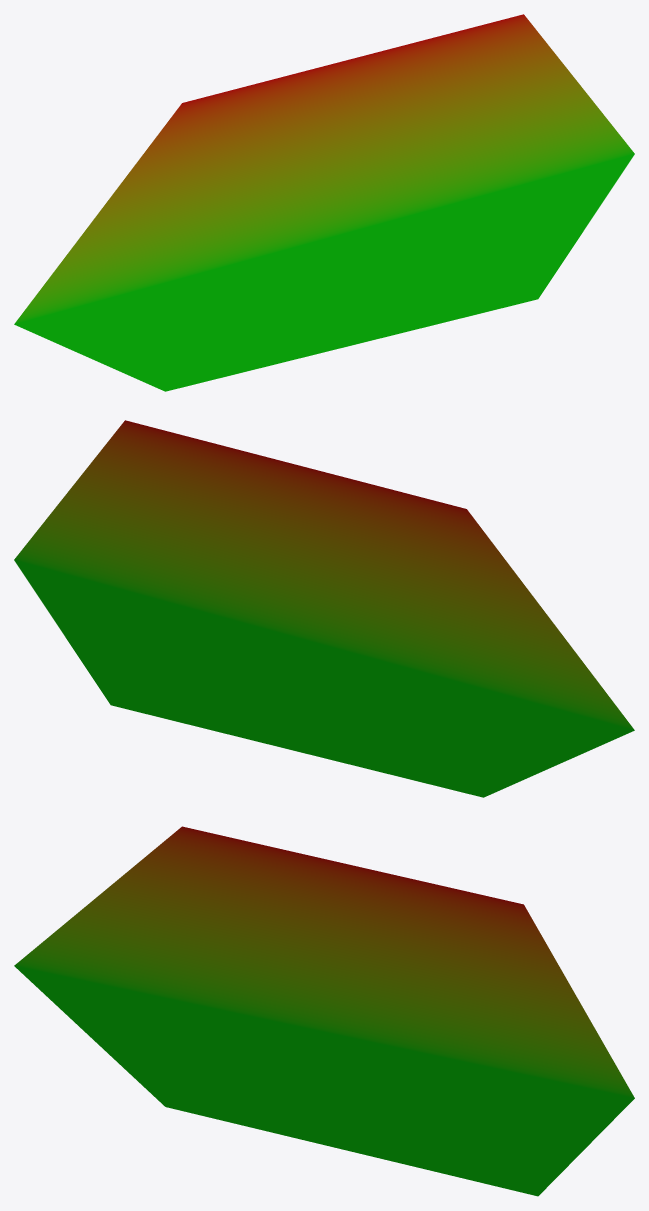
The model's file is Thatching Grass_LOD4_Var11_uddmcgbia.fbx.
3 renders of one model, top to bottom at view 1: azimuth 30°, elevation 25°; view 2: azimuth 150°, elevation 25°; view 3: azimuth 330°, elevation 25°, orthographic.
Parts seen in each view (by area): view 1: _cc41_Var11_LOD4; view 2: _cc41_Var11_LOD4; view 3: _cc41_Var11_LOD4.
Part boxes in pixels (x1,y1,x2,y2): _cc41_Var11_LOD4: [14, 14, 634, 391]; _cc41_Var11_LOD4: [14, 420, 634, 797]; _cc41_Var11_LOD4: [14, 826, 634, 1196].
Size of the model in its own units: 19.25 by 8.59 by 8.34e-07.
